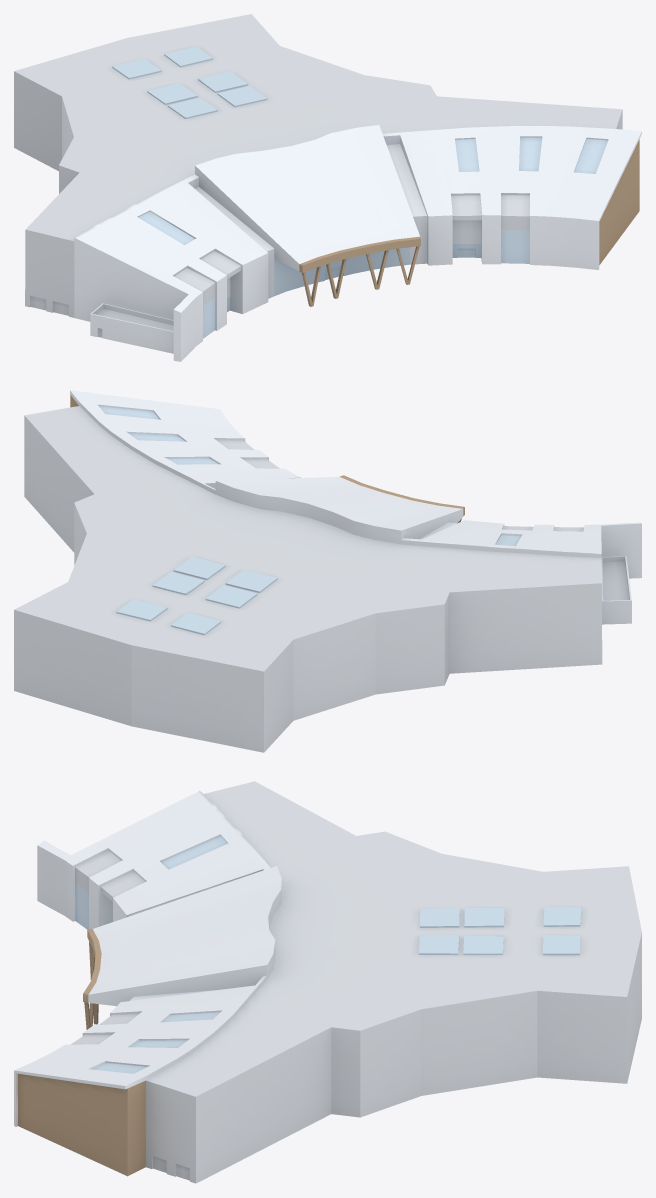
3 renders of one model, top to bottom at view 1: azimuth 30°, elevation 25°; view 2: azimuth 150°, elevation 25°; view 3: azimuth 270°, elevation 25°, orthographic. The views are drawn at different scales.
Visible parts, largest first — view 1: 70030076681980009.001; view 2: 70030076681980009.001; view 3: 70030076681980009.001.
Part boxes in pixels (x1=…): 70030076681980009.001: x1=14, y1=14, x2=641, y2=361; 70030076681980009.001: x1=14, y1=390, x2=641, y2=752; 70030076681980009.001: x1=14, y1=781, x2=641, y2=1183.
Bounding box in the file's own units: 127 × 19.02 × 107.
1 material, 1 textured.
